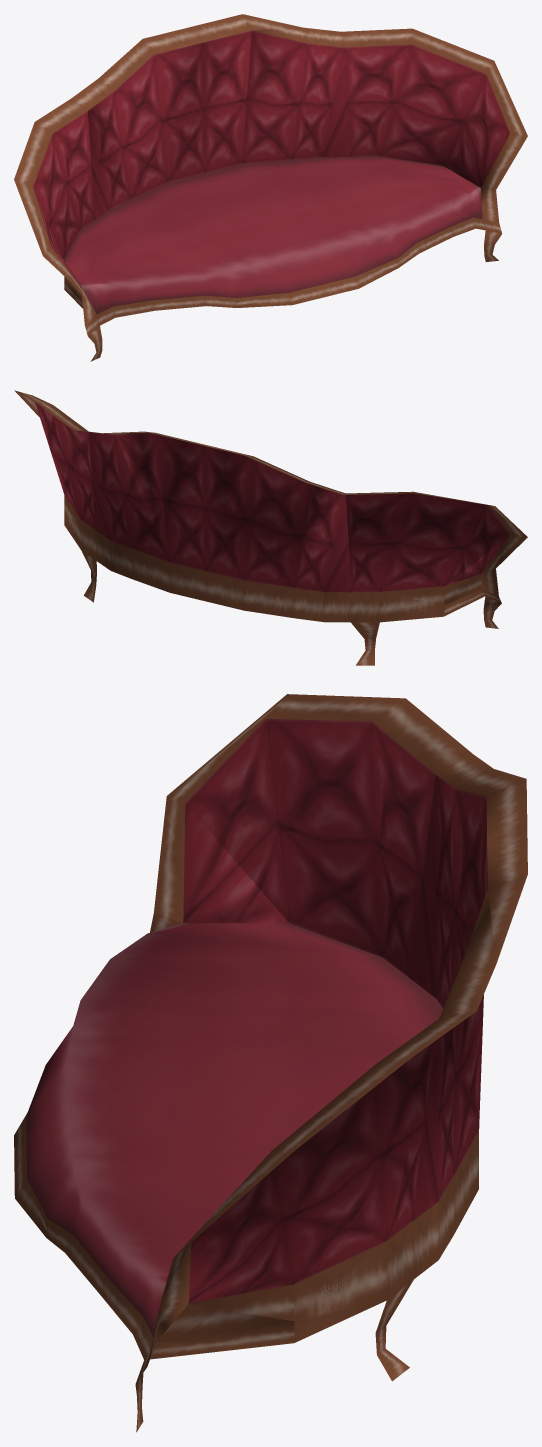
The model's file is sofa_fancy.fbx.
3 views of the same model, one above another, from view 1: azimuth 30°, elevation 25°; view 2: azimuth 150°, elevation 25°; view 3: azimuth 270°, elevation 25° (orthographic). The views are drawn at different scales.
Visible parts, largest first — view 1: lod_high; view 2: lod_high; view 3: lod_high.
Part boxes in pixels (bbox=[...]): lod_high: bbox=[14, 14, 527, 361]; lod_high: bbox=[14, 390, 527, 665]; lod_high: bbox=[14, 694, 527, 1432].
Size of the model in its own units: 997 by 419 by 469.
Materials: 1 (1 with a texture image).
